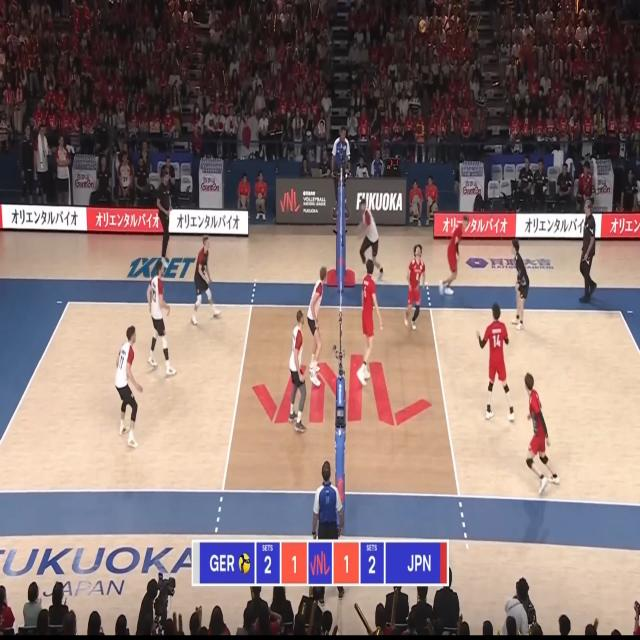ball: (419, 20, 426, 32)
